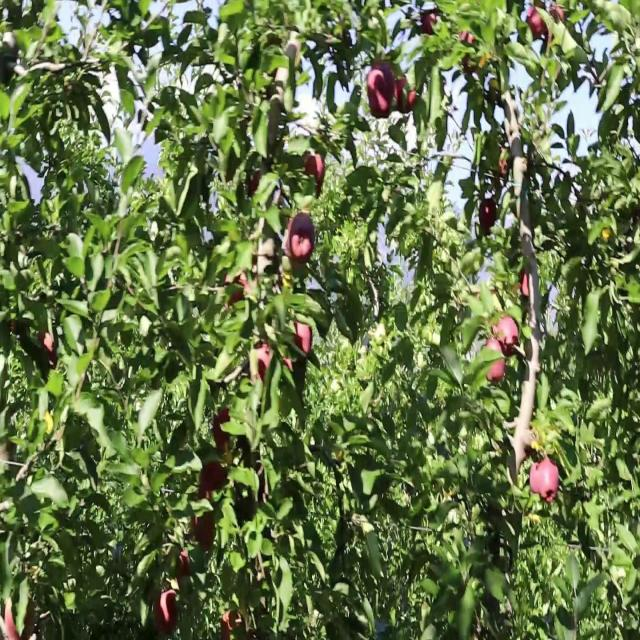apple: (284, 213, 317, 268), (364, 63, 394, 121), (532, 462, 560, 505), (8, 597, 36, 639), (200, 462, 227, 503), (492, 319, 520, 357), (484, 341, 507, 386), (156, 590, 180, 633), (228, 270, 255, 308), (192, 511, 216, 553), (212, 405, 232, 452), (304, 156, 327, 196), (252, 341, 273, 384), (460, 28, 479, 75), (292, 319, 313, 357), (396, 78, 417, 116), (480, 199, 498, 235), (220, 611, 242, 639), (528, 7, 545, 41), (176, 547, 192, 581), (420, 14, 439, 37), (248, 170, 263, 199), (548, 7, 564, 34), (40, 334, 55, 359), (548, 7, 564, 25), (520, 270, 529, 299)
